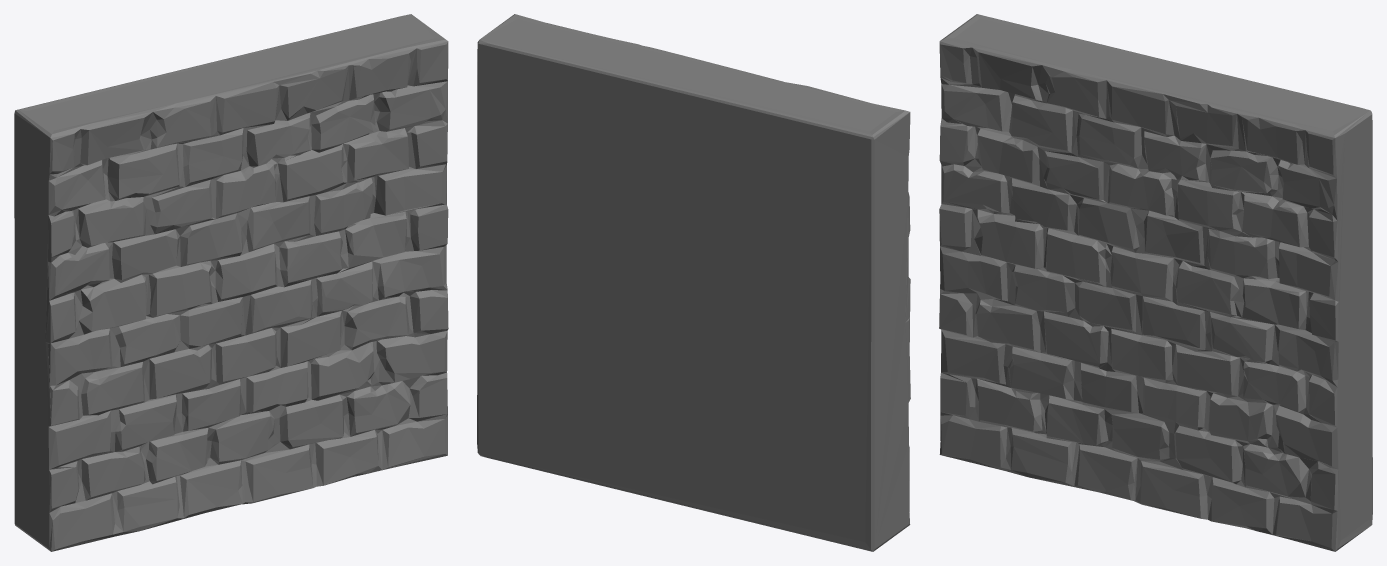
Rendered from modular_wall_3x3m_d.FBX.
3 renders of one model, left to right at view 1: azimuth 30°, elevation 25°; view 2: azimuth 150°, elevation 25°; view 3: azimuth 330°, elevation 25°, orthographic.
Visible parts, largest first — view 1: modular_wall_3x3m_d; view 2: modular_wall_3x3m_d; view 3: modular_wall_3x3m_d.
Boxes of the visible parts, x1,y1,x2,y2 form: modular_wall_3x3m_d: [14, 14, 448, 551]; modular_wall_3x3m_d: [477, 14, 910, 551]; modular_wall_3x3m_d: [939, 14, 1372, 551].
Size of the model in its own units: 3.01 by 3.01 by 0.5019.
